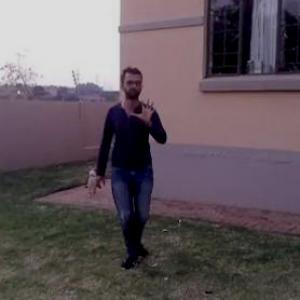follow_hand: (129, 94, 162, 127)
